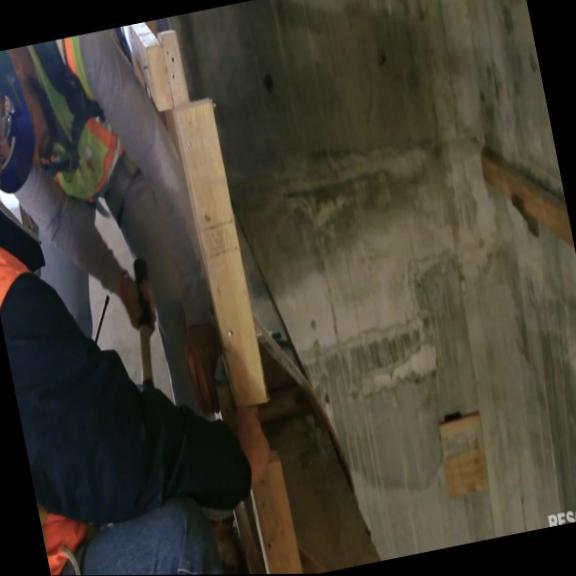safety_vest: (0, 178, 89, 576), (20, 30, 134, 211)
